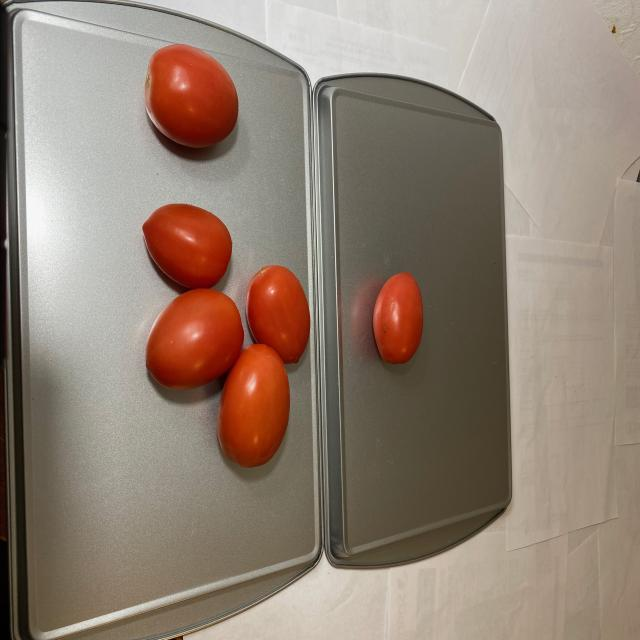tomato: (140, 198, 308, 471), (135, 38, 241, 152), (368, 264, 422, 372)
